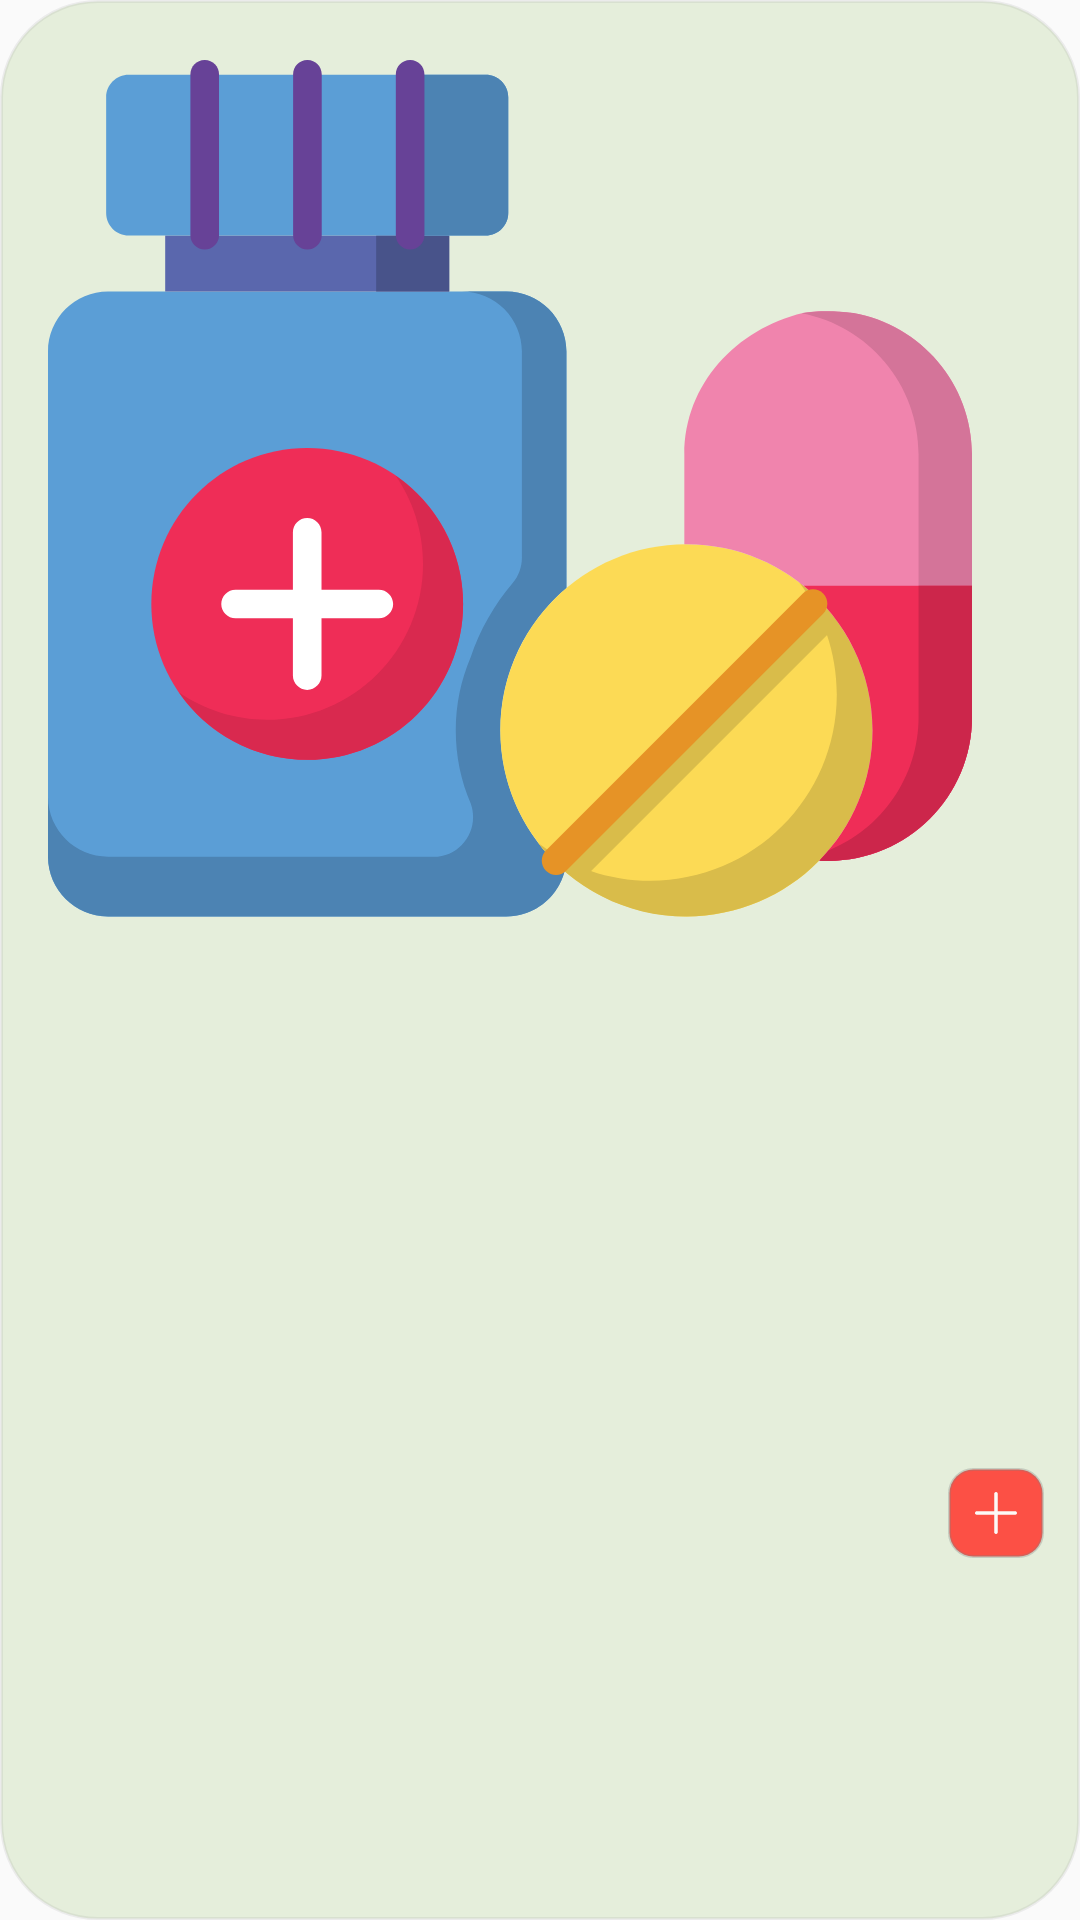

Screen size 1080w x 1920h. Icon name, then its box in pixels as (x1, y1, x2, y2):
add ws: (948, 1468, 1044, 1558)
